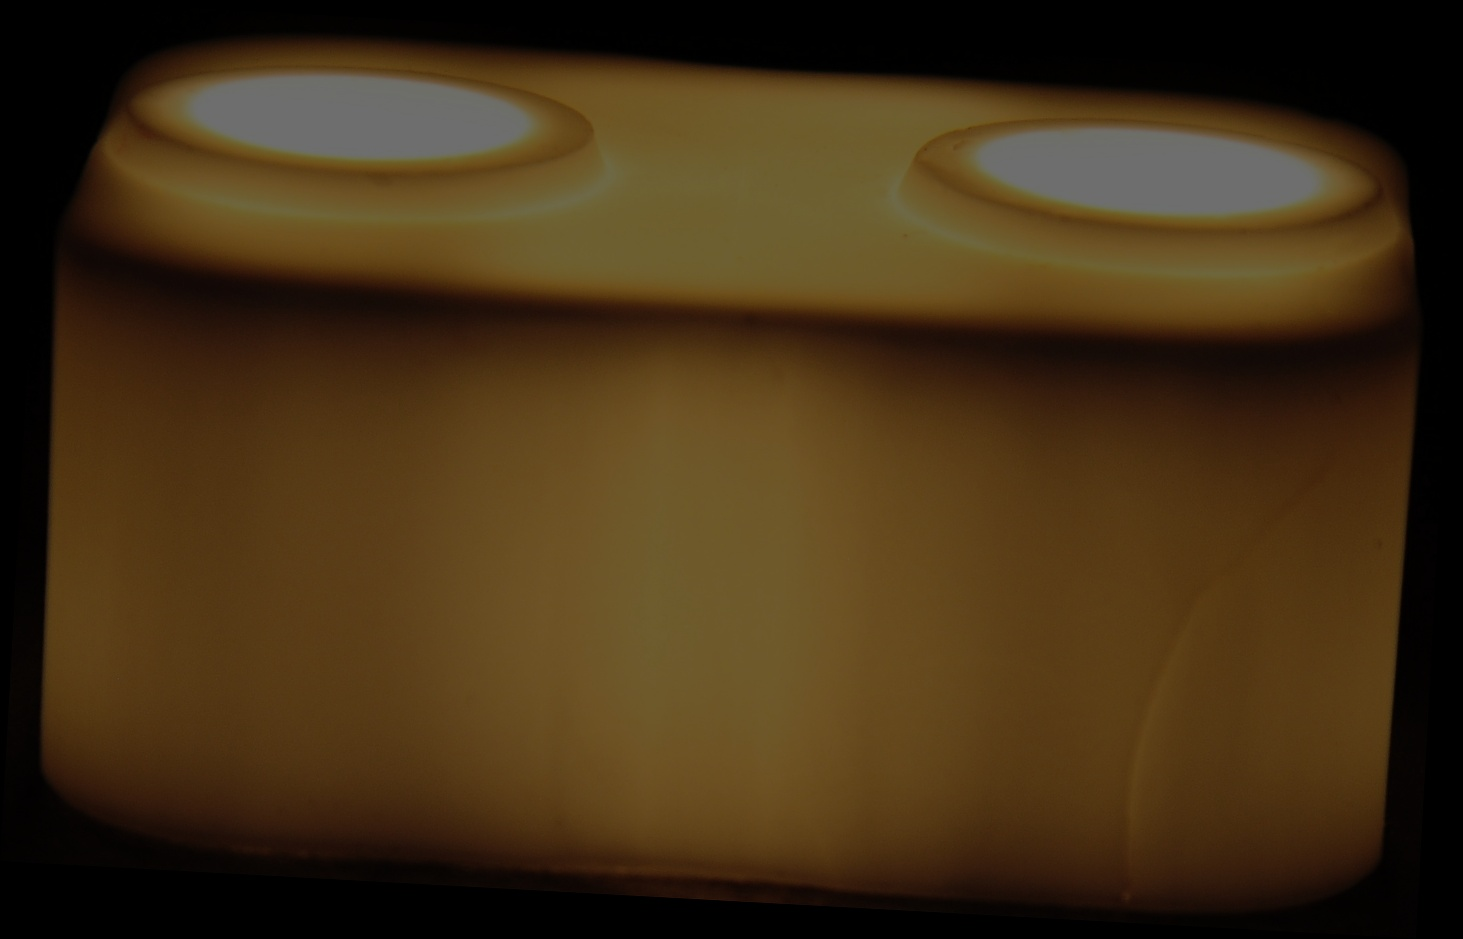flaw: (1121, 595, 1164, 910), (1210, 523, 1263, 624), (1261, 474, 1332, 545), (1177, 568, 1203, 664)
